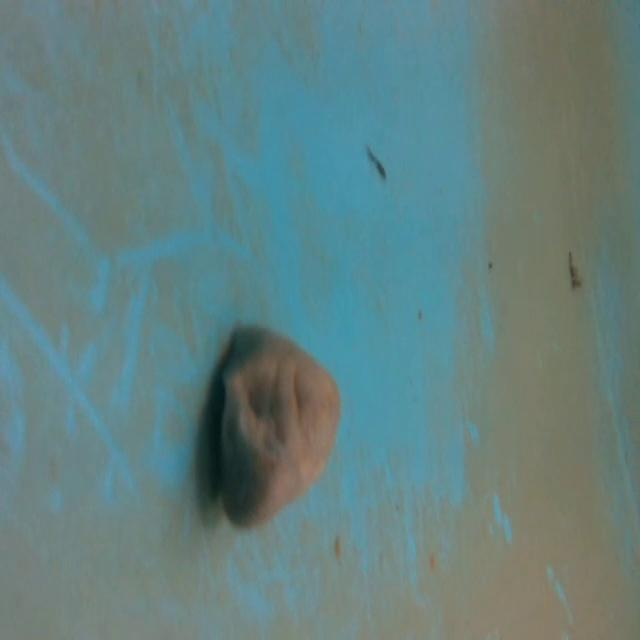rock: (206, 320, 347, 540)
